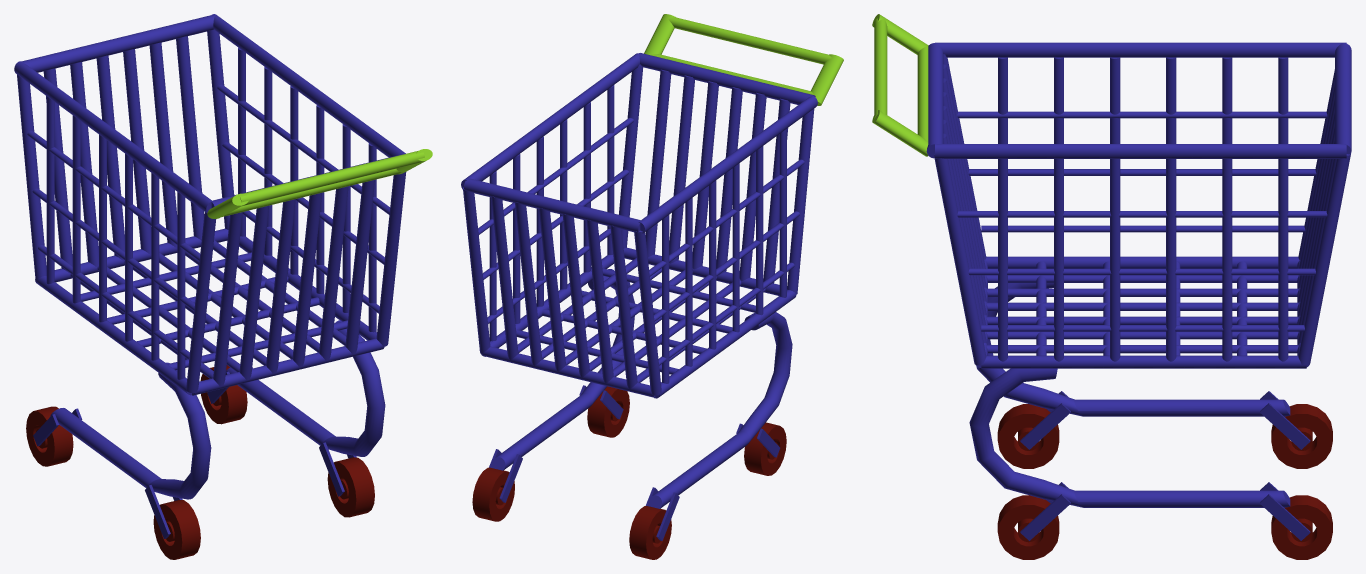
Rendered from ShopingCar.fbx.
The picture shows the model from 3 angles, left to right: view 1: azimuth 30°, elevation 25°; view 2: azimuth 150°, elevation 25°; view 3: azimuth 270°, elevation 25°; orthographic projection. The views are drawn at different scales.
Parts seen in each view (by area): view 1: Cylinder007, Cylinder009, Tube001, Cylinder012, Box001; view 2: Cylinder007, Cylinder009, Tube001, Cylinder012, Box001; view 3: Cylinder007, Cylinder009, Tube001, Cylinder012, Box001.
Boxes of the visible parts, bbox=[...] form: Cylinder007: bbox=[14, 14, 406, 395]; Cylinder009: bbox=[50, 320, 385, 499]; Tube001: bbox=[26, 365, 374, 559]; Cylinder012: bbox=[207, 149, 432, 218]; Box001: bbox=[33, 367, 356, 538]; Cylinder007: bbox=[461, 53, 817, 398]; Cylinder009: bbox=[490, 269, 792, 508]; Tube001: bbox=[472, 386, 786, 559]; Cylinder012: bbox=[644, 14, 843, 105]; Box001: bbox=[489, 385, 780, 540]; Cylinder007: bbox=[926, 42, 1351, 368]; Cylinder009: bbox=[969, 283, 1290, 507]; Tube001: bbox=[997, 404, 1332, 559]; Cylinder012: bbox=[872, 14, 928, 156]; Box001: bbox=[1020, 391, 1310, 540].
Bounding box in the file's own units: 7.83 × 15.07 × 14.73.
